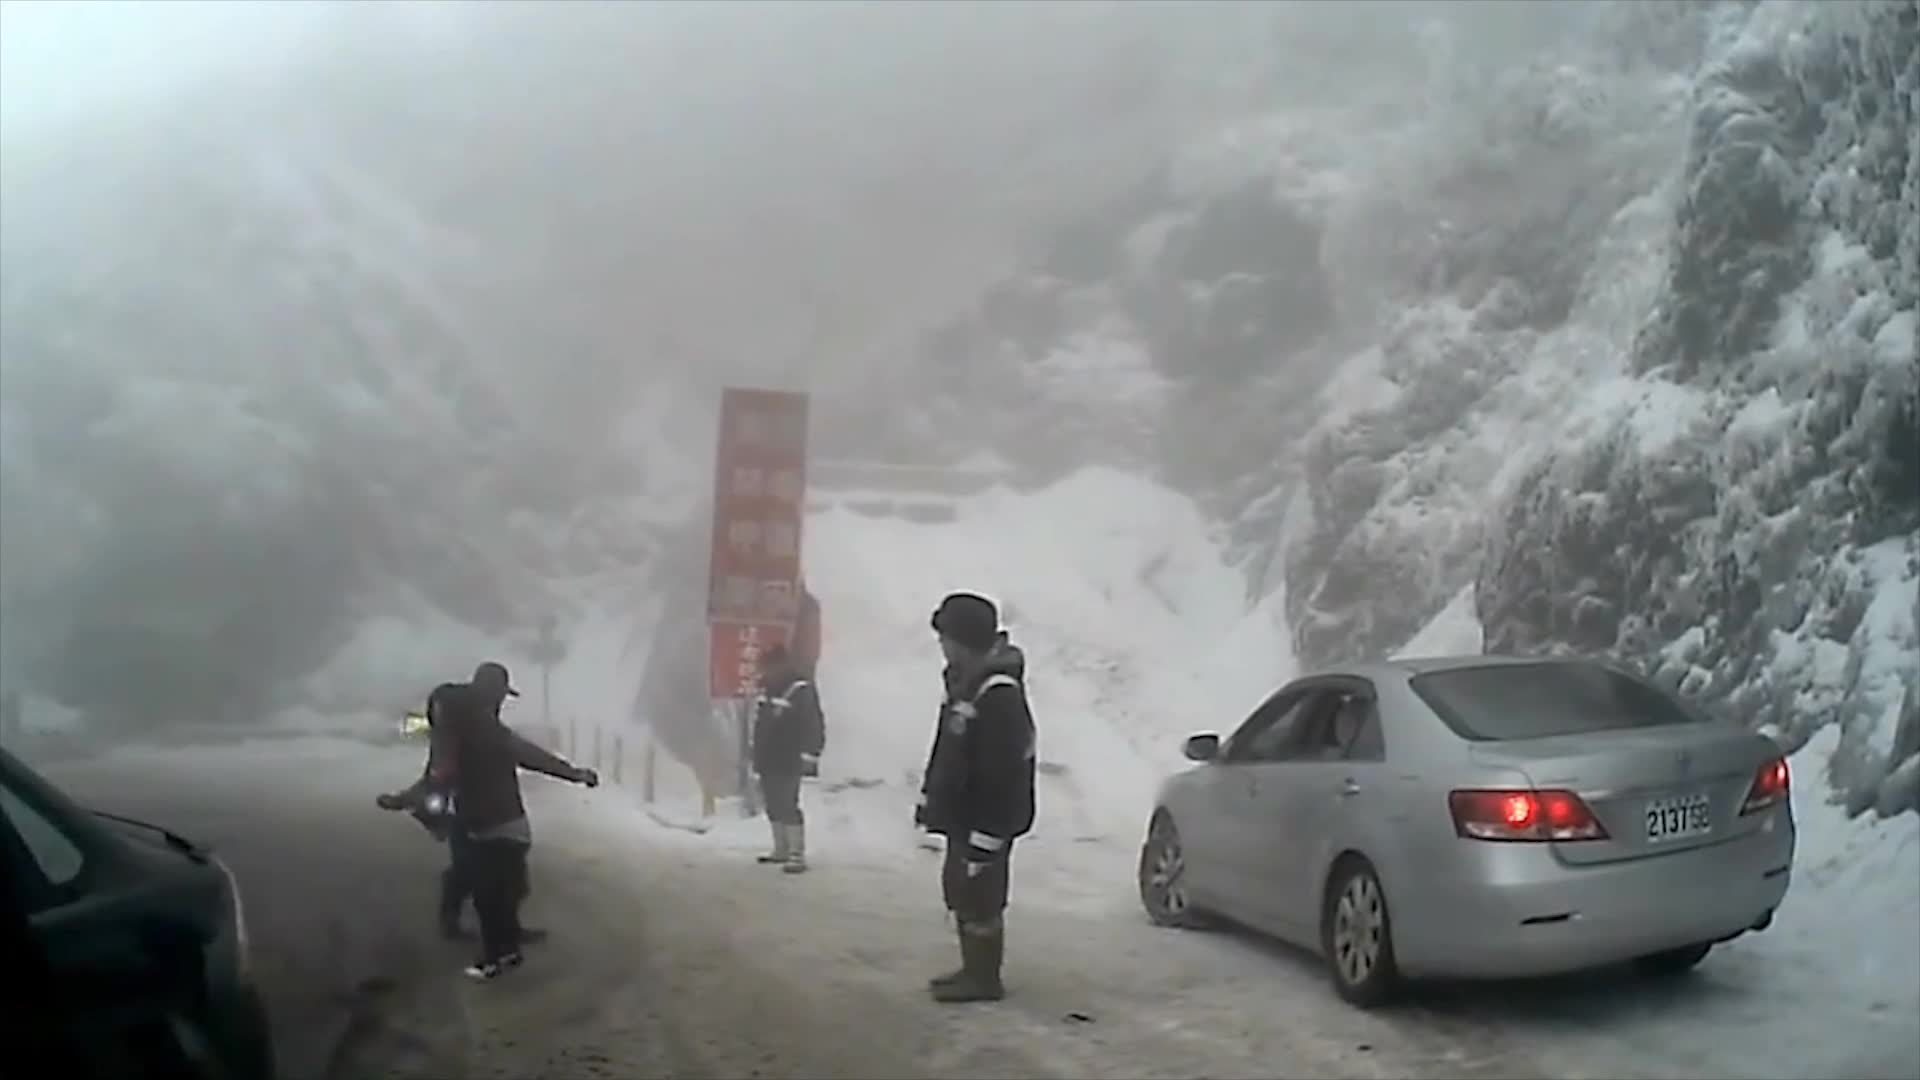pedestrian: (379, 679, 591, 978), (904, 585, 1040, 1008), (754, 636, 833, 876), (765, 567, 828, 745)
vehicle: (1135, 650, 1796, 1005), (0, 744, 279, 1078)
